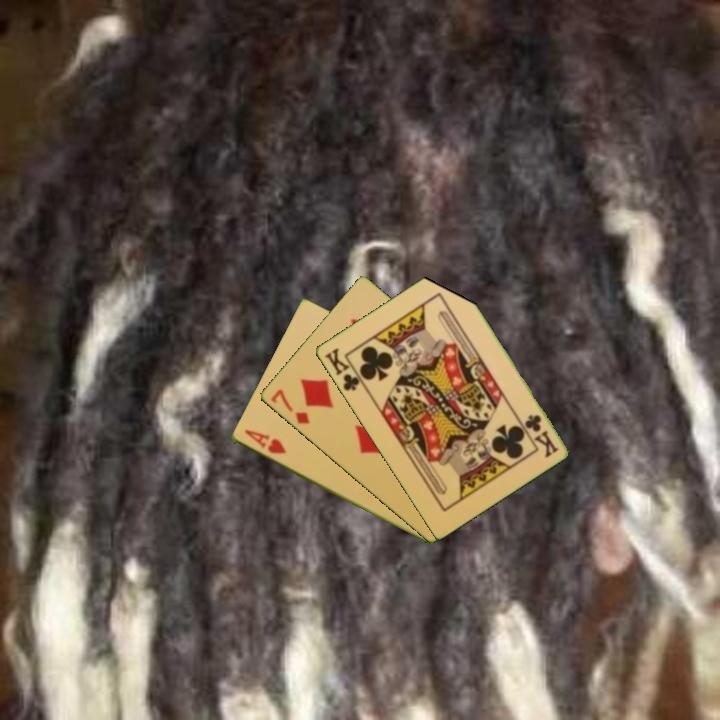7d: (267, 385, 312, 427)
Ah: (240, 426, 289, 457)
Kc: (321, 344, 367, 394), (521, 411, 561, 460)
